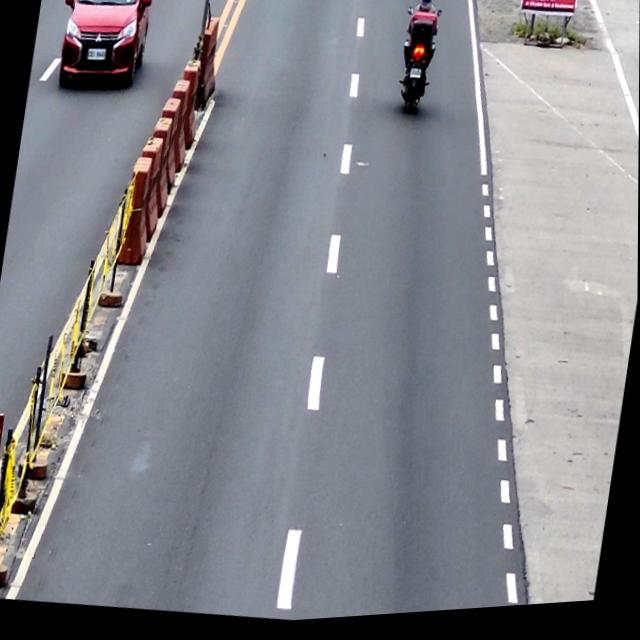License-Plate: (409, 72, 422, 85)
Motorcycle: (392, 8, 443, 125)
